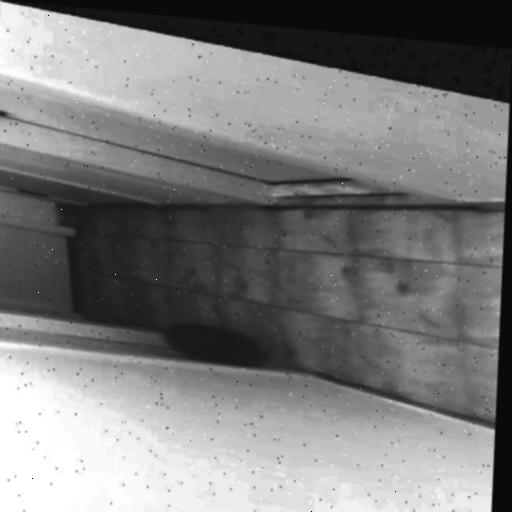balloon: (158, 310, 260, 367)
